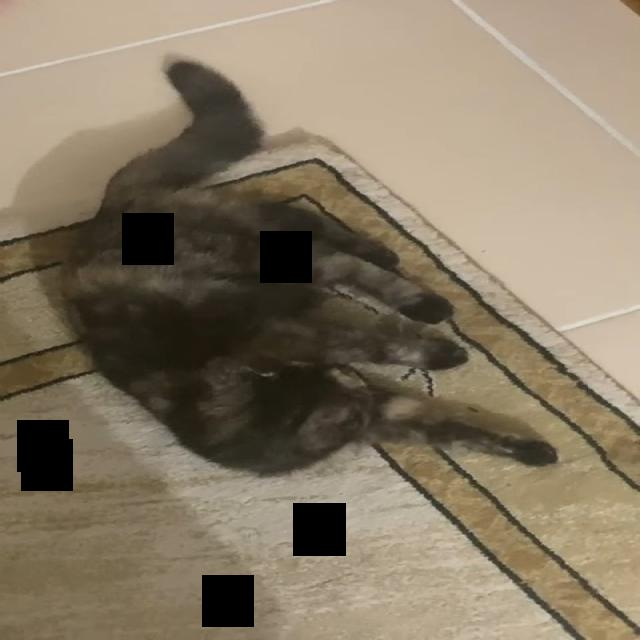authorized: (56, 53, 559, 478)
